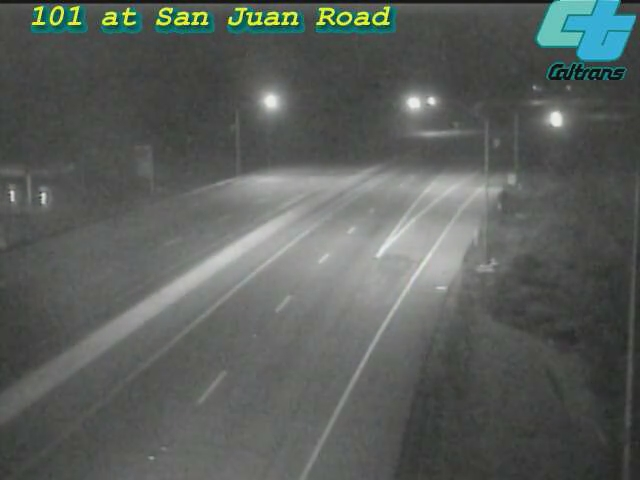vehicle: (529, 95, 579, 145)
